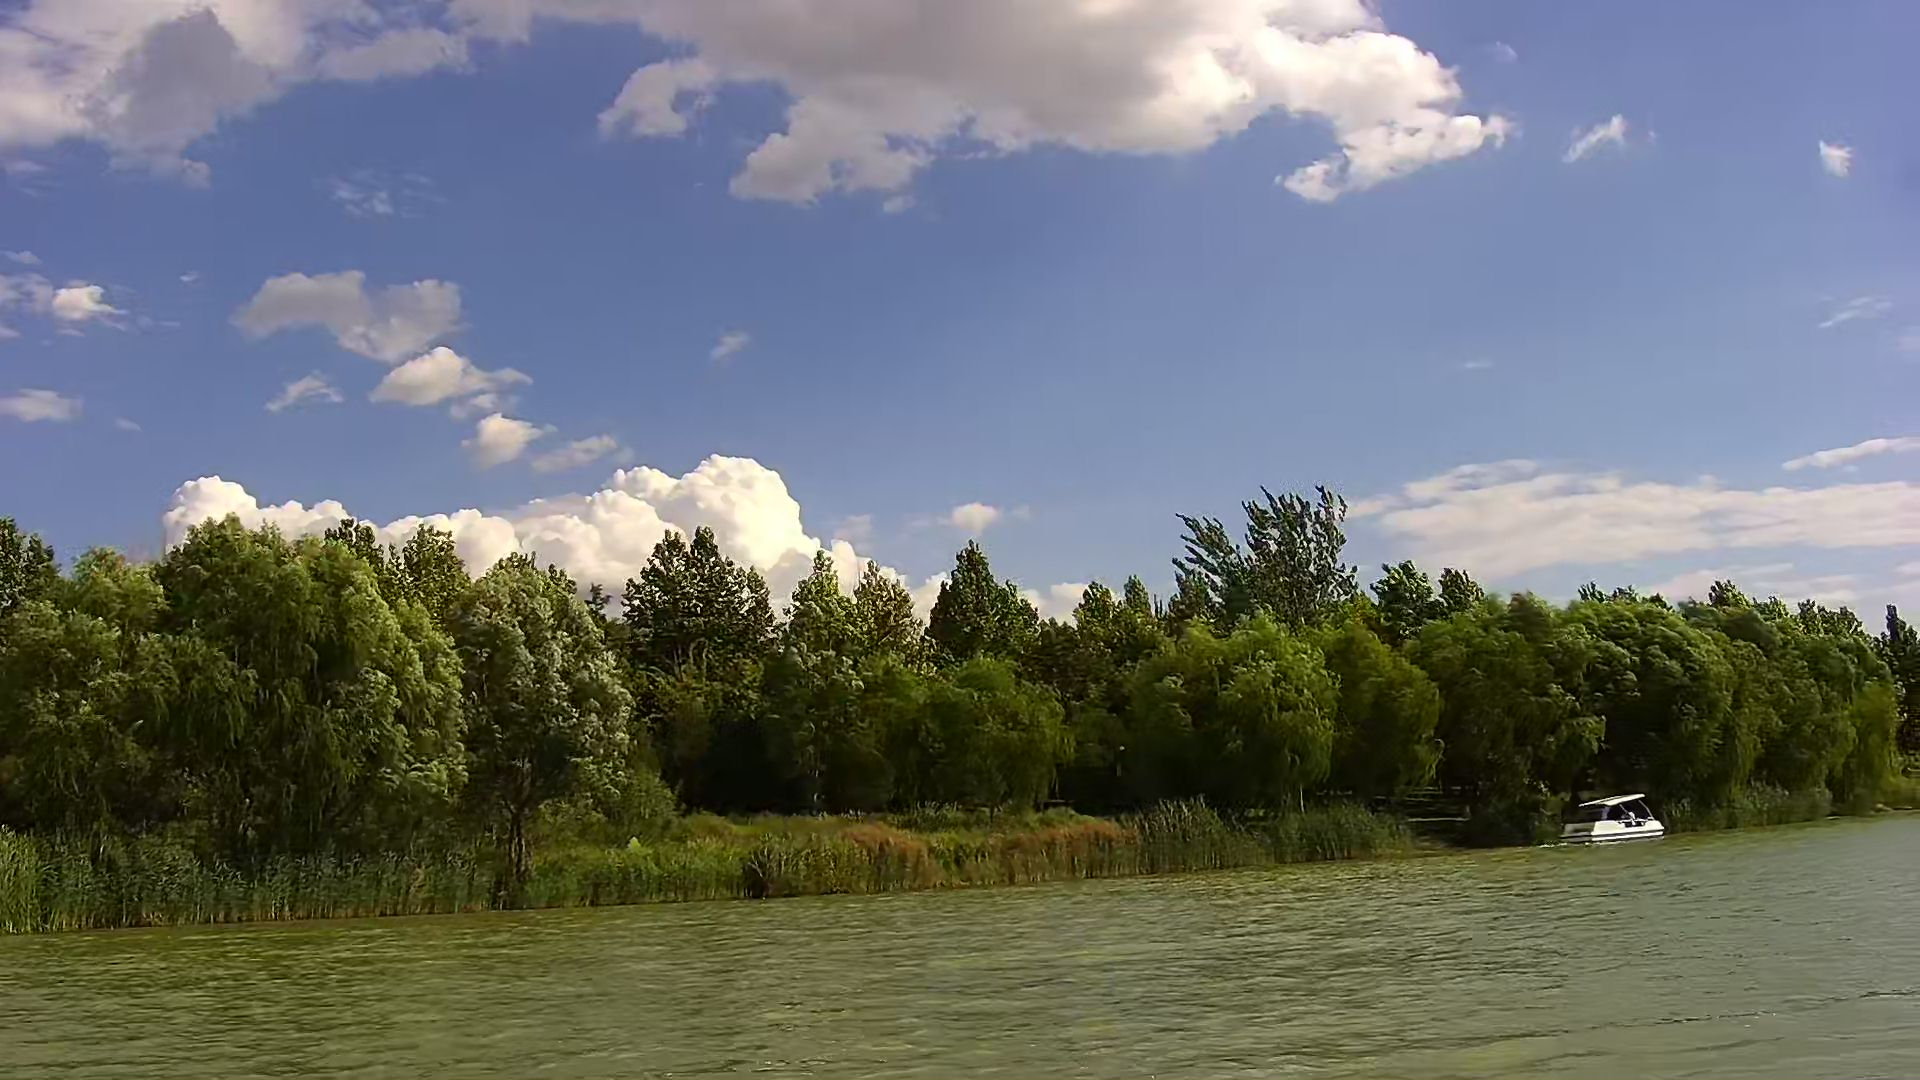boat: (1563, 791, 1665, 847)
